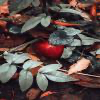Apple leaf: (35, 62, 82, 94), (0, 61, 18, 90), (22, 15, 42, 36), (18, 69, 33, 93), (9, 51, 32, 66), (24, 59, 44, 70), (39, 16, 52, 28)
